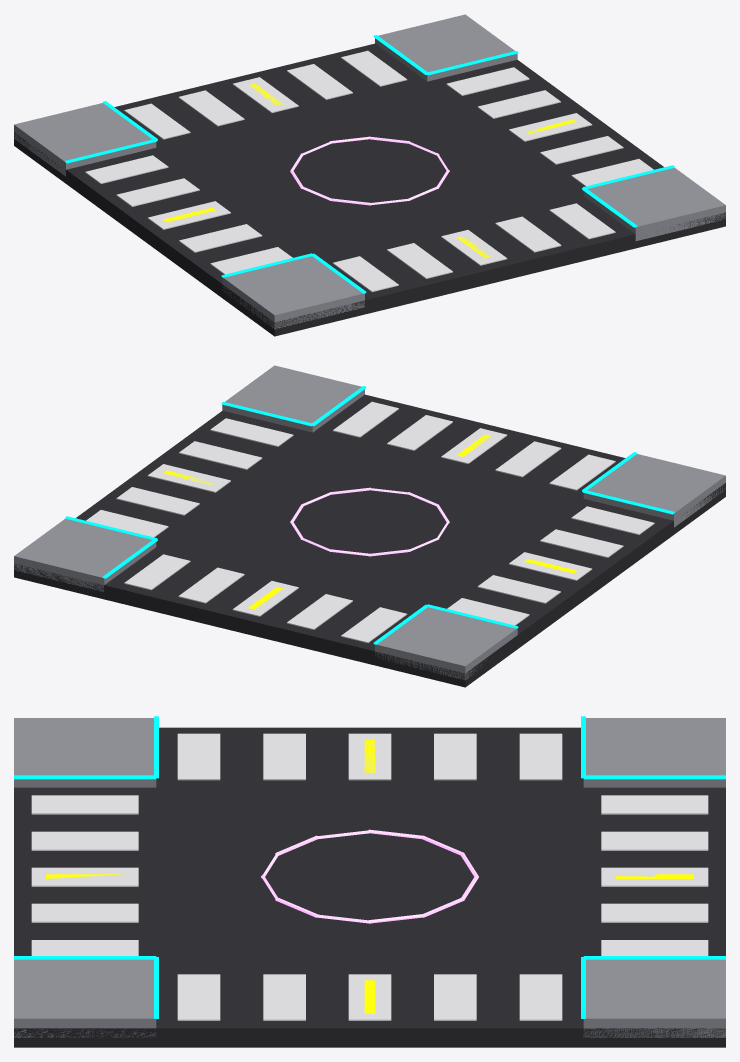
Rendered from Tile_RoadCross.fbx.
3 renders of one model, top to bottom at view 1: azimuth 30°, elevation 25°; view 2: azimuth 150°, elevation 25°; view 3: azimuth 270°, elevation 25°, orthographic. The views are drawn at different scales.
Parts seen in each view (by area): view 1: Tile_RoadCross_Base, Tile_RoadCross_Walk-1-1, Tile_RoadCross_Walk1-1, Tile_RoadCross_Walk-11, Tile_RoadCross_Walk11, Tile_RoadCross_CrosswalkE3, Tile_RoadCross_CrosswalkW1, Tile_RoadCross_CrosswalkW3, Tile_RoadCross_CrosswalkE4, Tile_RoadCross_CrosswalkW4, Tile_RoadCross_CrosswalkE1, Tile_RoadCross_JunctionRing (+14 smaller); view 2: Tile_RoadCross_Base, Tile_RoadCross_Walk-11, Tile_RoadCross_Walk11, Tile_RoadCross_Walk-1-1, Tile_RoadCross_Walk1-1, Tile_RoadCross_CrosswalkE1, Tile_RoadCross_CrosswalkW1, Tile_RoadCross_CrosswalkW3, Tile_RoadCross_CrosswalkE0, Tile_RoadCross_CrosswalkW0, Tile_RoadCross_CrosswalkE3, Tile_RoadCross_JunctionRing (+14 smaller); view 3: Tile_RoadCross_Base, Tile_RoadCross_Walk11, Tile_RoadCross_Walk1-1, Tile_RoadCross_Walk-1-1, Tile_RoadCross_Walk-11, Tile_RoadCross_CrosswalkN0, Tile_RoadCross_CrosswalkS0, Tile_RoadCross_CrosswalkN1, Tile_RoadCross_CrosswalkN3, Tile_RoadCross_CrosswalkS1, Tile_RoadCross_CrosswalkS3, Tile_RoadCross_CrosswalkW0 (+18 smaller).
Part boxes in pixels (x1=…): Tile_RoadCross_Base: x1=14, y1=43, x2=725, y2=336; Tile_RoadCross_Walk-1-1: x1=222, y1=256, x2=364, y2=329; Tile_RoadCross_Walk1-1: x1=583, y1=167, x2=725, y2=241; Tile_RoadCross_Walk-11: x1=14, y1=103, x2=156, y2=176; Tile_RoadCross_Walk11: x1=375, y1=14, x2=517, y2=81; Tile_RoadCross_CrosswalkE3: x1=477, y1=90, x2=560, y2=118; Tile_RoadCross_CrosswalkW1: x1=179, y1=224, x2=262, y2=252; Tile_RoadCross_CrosswalkW3: x1=116, y1=178, x2=199, y2=206; Tile_RoadCross_CrosswalkE4: x1=446, y1=67, x2=529, y2=95; Tile_RoadCross_CrosswalkW4: x1=85, y1=155, x2=168, y2=183; Tile_RoadCross_CrosswalkE1: x1=540, y1=136, x2=623, y2=164; Tile_RoadCross_JunctionRing: x1=290, y1=136, x2=449, y2=205; Tile_RoadCross_Base: x1=14, y1=394, x2=725, y2=687; Tile_RoadCross_Walk-11: x1=375, y1=607, x2=517, y2=680; Tile_RoadCross_Walk11: x1=14, y1=518, x2=156, y2=591; Tile_RoadCross_Walk-1-1: x1=583, y1=454, x2=725, y2=527; Tile_RoadCross_Walk1-1: x1=222, y1=365, x2=364, y2=432; Tile_RoadCross_CrosswalkE1: x1=179, y1=441, x2=262, y2=469; Tile_RoadCross_CrosswalkW1: x1=540, y1=529, x2=623, y2=557; Tile_RoadCross_CrosswalkW3: x1=477, y1=575, x2=560, y2=603; Tile_RoadCross_CrosswalkE0: x1=210, y1=418, x2=293, y2=446; Tile_RoadCross_CrosswalkW0: x1=571, y1=506, x2=654, y2=534; Tile_RoadCross_CrosswalkE3: x1=116, y1=487, x2=199, y2=515; Tile_RoadCross_JunctionRing: x1=290, y1=487, x2=449, y2=556; Tile_RoadCross_Base: x1=14, y1=727, x2=725, y2=1047; Tile_RoadCross_Walk11: x1=583, y1=959, x2=725, y2=1037; Tile_RoadCross_Walk1-1: x1=14, y1=959, x2=156, y2=1037; Tile_RoadCross_Walk-1-1: x1=14, y1=718, x2=156, y2=787; Tile_RoadCross_Walk-11: x1=583, y1=718, x2=725, y2=787; Tile_RoadCross_CrosswalkN0: x1=601, y1=795, x2=708, y2=814; Tile_RoadCross_CrosswalkS0: x1=31, y1=795, x2=138, y2=814; Tile_RoadCross_CrosswalkN1: x1=601, y1=831, x2=708, y2=850; Tile_RoadCross_CrosswalkN3: x1=601, y1=903, x2=708, y2=922; Tile_RoadCross_CrosswalkS1: x1=31, y1=831, x2=138, y2=850; Tile_RoadCross_CrosswalkS3: x1=31, y1=903, x2=138, y2=922; Tile_RoadCross_CrosswalkW0: x1=177, y1=733, x2=220, y2=780.
Size of the model in its own units: 2 by 0.095 by 2.
